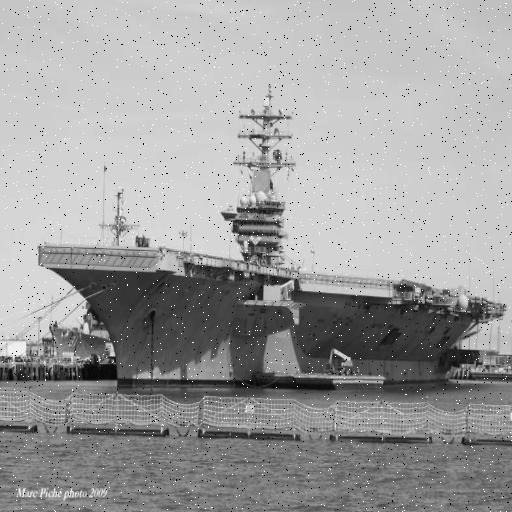Portanaves: (34, 70, 512, 393)
